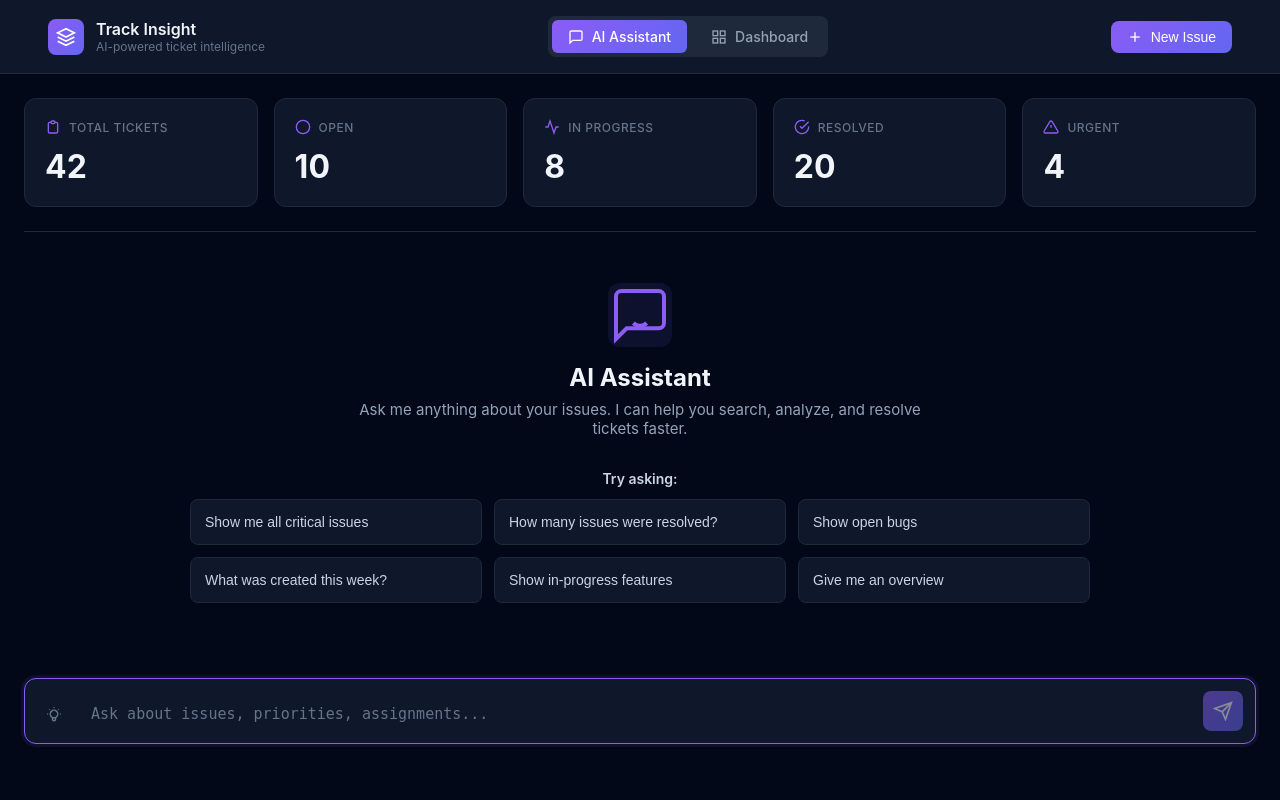
AIAssistant.vue › clicking a stat card sends the associated quick query
Click the element with class "stat-card" showing "Total Tickets 42".
click(141, 152)  # box [24,98,258,207]
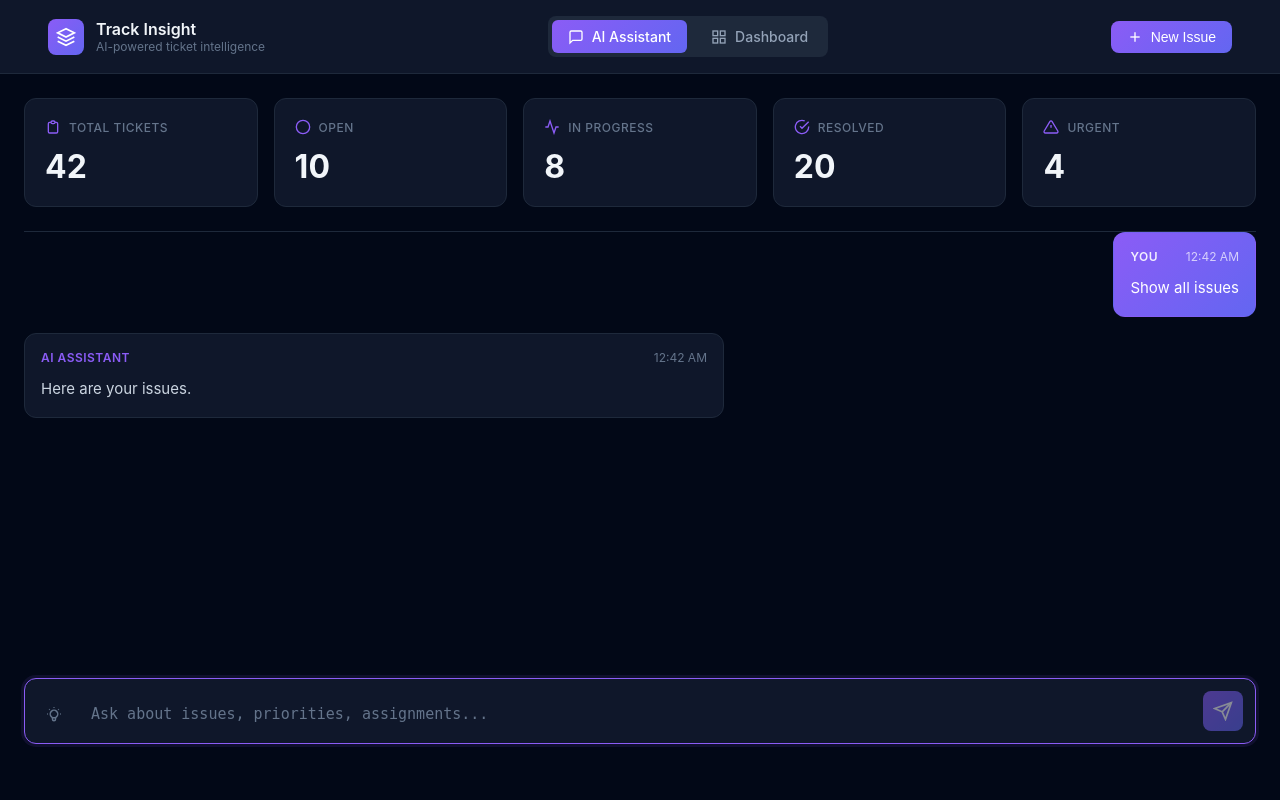
Expected: the element with class "user" is shown, [1113,232,1256,317]
Expected: the element with class "user" shows "Show all issues", [1130,278,1239,297]
